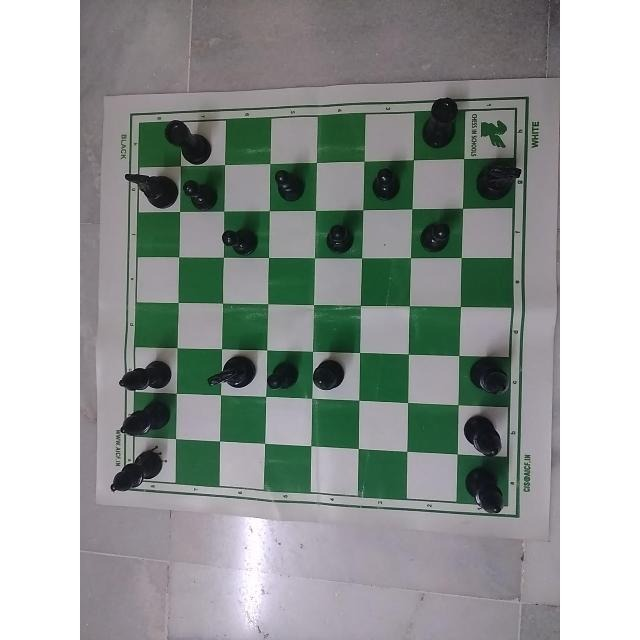black-bishop: (104, 446, 168, 497), (458, 463, 513, 521), (460, 403, 516, 457), (114, 351, 172, 398), (112, 400, 180, 440), (462, 356, 513, 398), (309, 354, 350, 402)
black-knight: (119, 169, 181, 216), (204, 352, 258, 404), (472, 154, 527, 200)
black-pawn: (412, 206, 462, 259), (263, 349, 307, 409), (317, 214, 359, 264), (219, 218, 265, 262), (368, 160, 404, 213), (272, 163, 316, 206), (183, 171, 221, 216)
black-rook: (407, 98, 467, 150), (168, 116, 216, 162)
